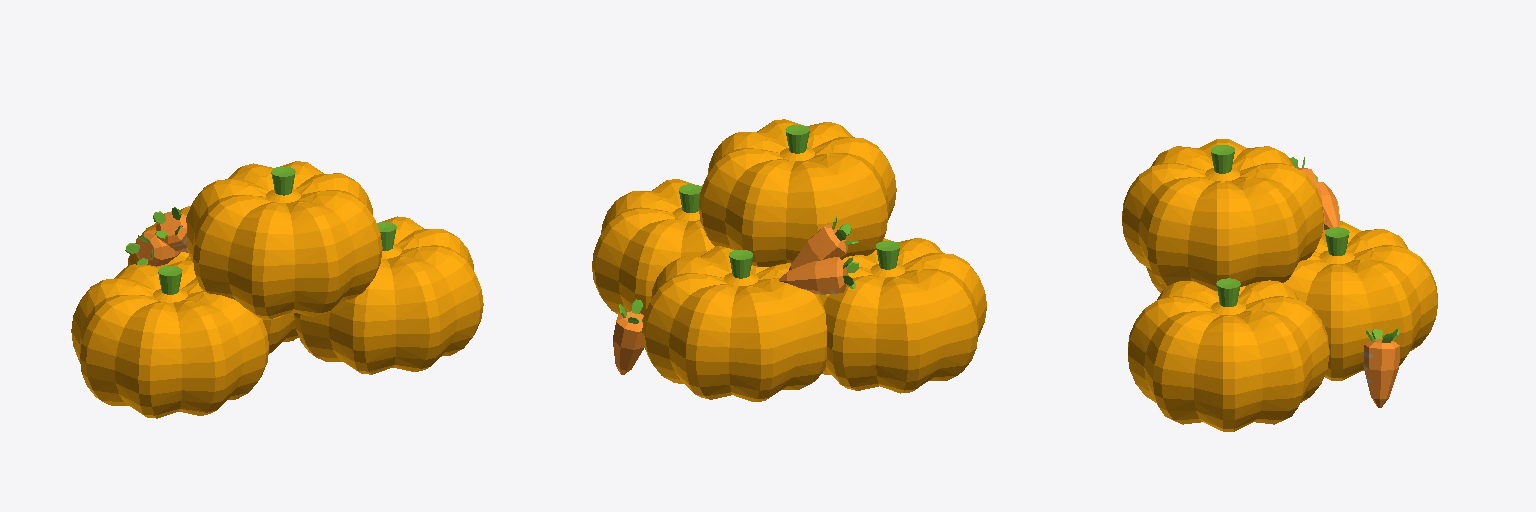
3 views of the same model, side by side, from view 1: azimuth 30°, elevation 25°; view 2: azimuth 150°, elevation 25°; view 3: azimuth 270°, elevation 25° (orthographic).
Visible parts, largest first — view 1: Carrot; view 2: Carrot; view 3: Carrot.
Part boxes in pixels (x1,y1,x2,y2): Carrot: (71, 161, 483, 418); Carrot: (592, 119, 986, 401); Carrot: (1122, 139, 1437, 431).
Size of the model in its own units: 4.8 by 2.55 by 3.46.
Materials: 1 (1 with a texture image).